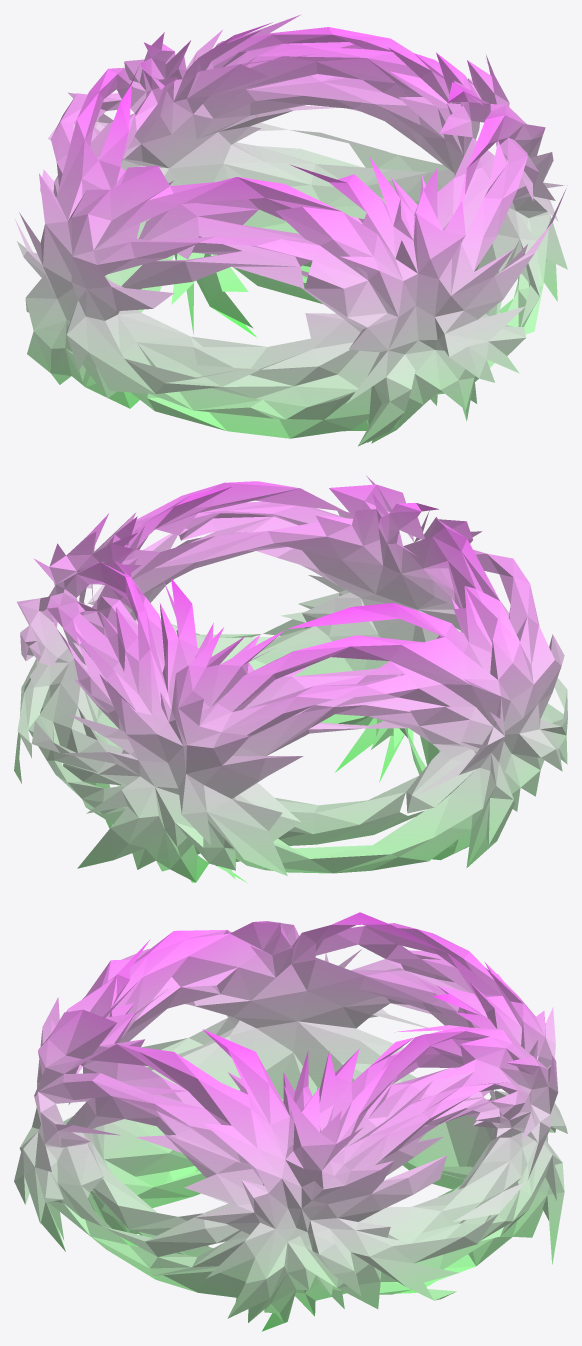
Rendered from 46_cyb_laser_gradient_fish_scales_2942_2026_10_03_9d4b51.glb.
3 renders of one model, top to bottom at view 1: azimuth 30°, elevation 25°; view 2: azimuth 150°, elevation 25°; view 3: azimuth 270°, elevation 25°, orthographic. The views are drawn at different scales.
Visible parts, largest first — view 1: geometry_0; view 2: geometry_0; view 3: geometry_0.
Boxes of the visible parts, x1,y1,x2,y2 form: geometry_0: [14, 14, 567, 446]; geometry_0: [14, 475, 567, 882]; geometry_0: [14, 912, 567, 1331].
Size of the model in its own units: 0.9708 by 0.5867 by 0.9688.
